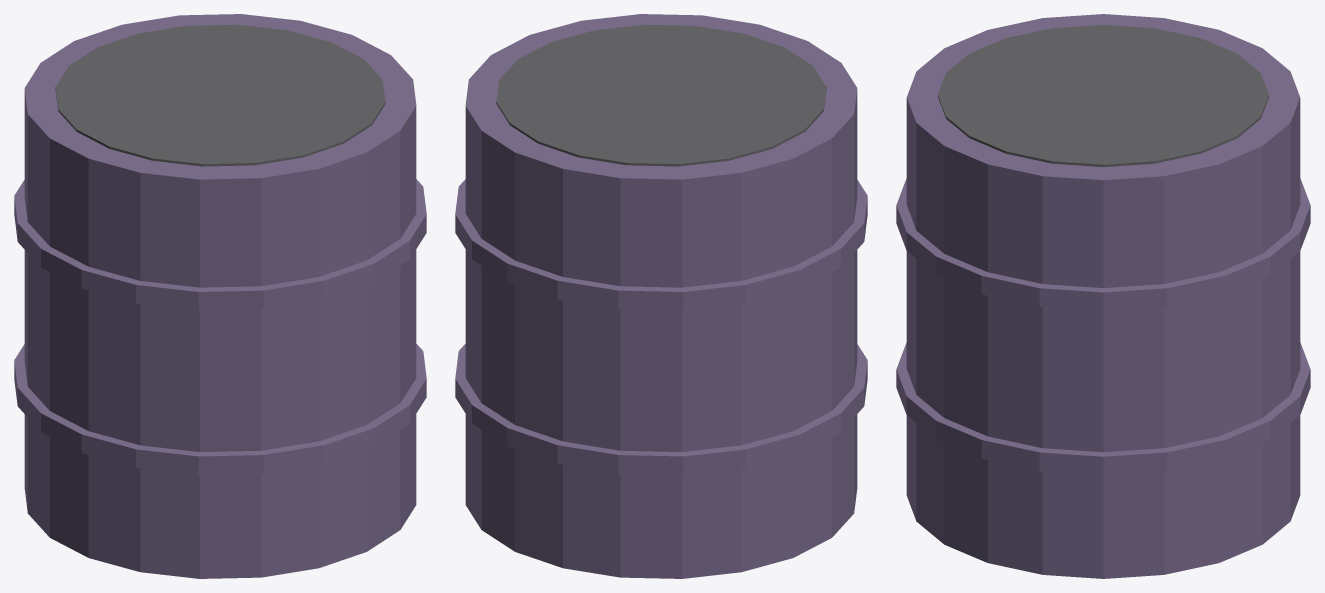
The model's file is vge_astrofuel_barrel_b.obj.
3 views of the same model, side by side, from view 1: azimuth 30°, elevation 25°; view 2: azimuth 150°, elevation 25°; view 3: azimuth 270°, elevation 25° (orthographic).
Parts seen in each view (by area): view 1: vge_astrofuel_barrel_b_0, vge_astrofuel_barrel_b_3, vge_astrofuel_barrel_b_2, vge_astrofuel_barrel_b_1; view 2: vge_astrofuel_barrel_b_0, vge_astrofuel_barrel_b_3, vge_astrofuel_barrel_b_2, vge_astrofuel_barrel_b_1; view 3: vge_astrofuel_barrel_b_0, vge_astrofuel_barrel_b_3, vge_astrofuel_barrel_b_1, vge_astrofuel_barrel_b_2.
Part boxes in pixels (x1,y1,x2,y2): vge_astrofuel_barrel_b_0: [24, 14, 416, 578]; vge_astrofuel_barrel_b_3: [55, 24, 385, 166]; vge_astrofuel_barrel_b_2: [14, 179, 426, 310]; vge_astrofuel_barrel_b_1: [14, 344, 426, 475]; vge_astrofuel_barrel_b_0: [465, 14, 857, 578]; vge_astrofuel_barrel_b_3: [496, 24, 826, 166]; vge_astrofuel_barrel_b_2: [455, 179, 867, 310]; vge_astrofuel_barrel_b_1: [455, 344, 867, 475]; vge_astrofuel_barrel_b_0: [906, 14, 1300, 578]; vge_astrofuel_barrel_b_3: [938, 24, 1268, 166]; vge_astrofuel_barrel_b_1: [896, 342, 1310, 475]; vge_astrofuel_barrel_b_2: [896, 178, 1310, 311].
Bounding box in the file's own units: 0.8 × 0.855 × 0.8.
